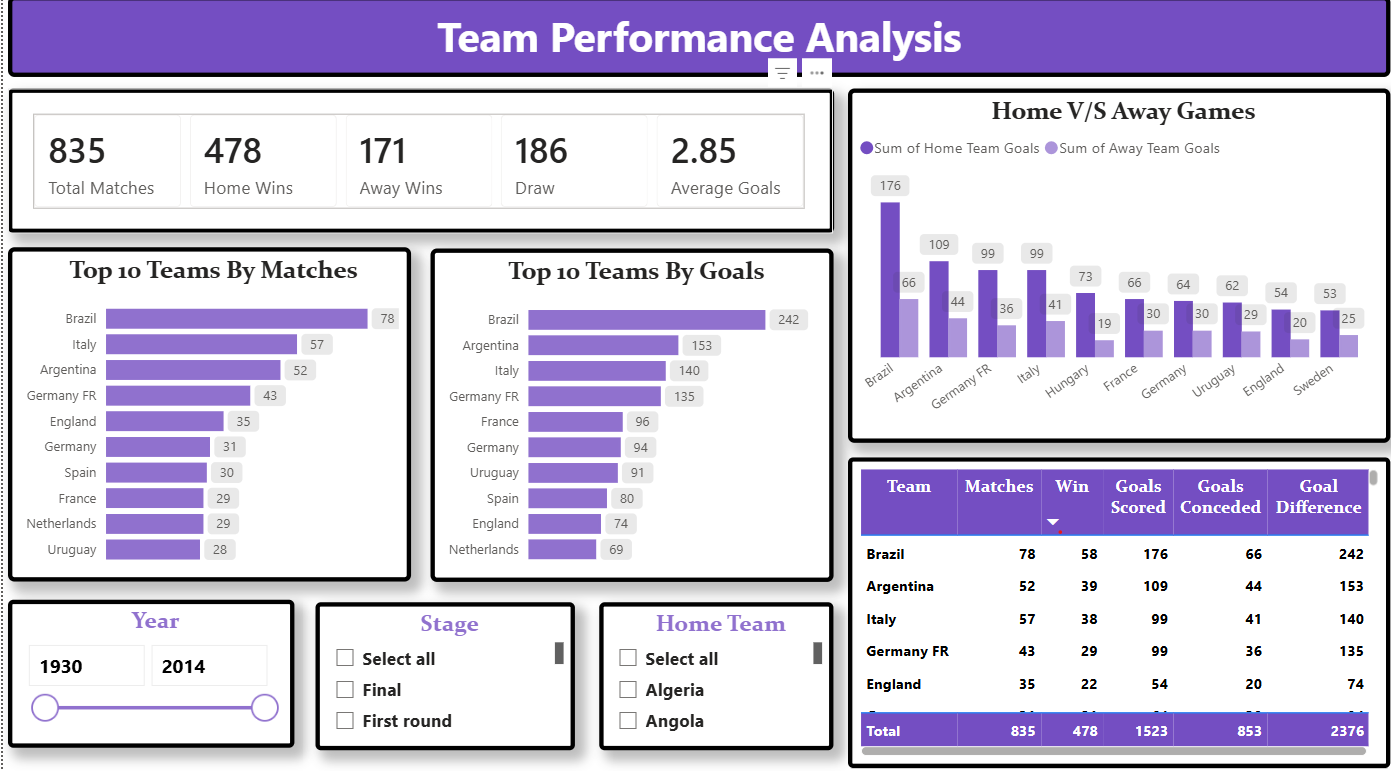

The dashboard page shown, as its layout file describes it:
{"tool":"powerbi","page":{"name":"Team Performance Analysis","canvas":[1280,720],"ordinal":2},"visuals":[{"type":"textbox","title":"Team Performace Analysis","box":[4.1,0,1270.7,74.1],"z":0},{"type":"cardVisual","fields":{"Data":["WorldCupMatches1.Total Matches","WorldCupMatches1.Home Wins","WorldCupMatches1.Away Wins","WorldCupMatches1.Draw","WorldCupMatches1.Average Goals"]},"box":[4.1,85.1,758.8,133.1],"z":1000},{"type":"barChart","title":"Top 10 Teams By Matches","fields":{"Y":["CountNonNull(WorldCupMatches1.MatchID)"],"Category":["WorldCupMatches1.Home Team Name"]},"box":[4.1,230.5,370,307.4],"z":2000},{"type":"barChart","title":"Top 10 Teams By Goals","fields":{"Category":["WorldCupMatches1.Home Team Name"],"Y":["Sum(WorldCupMatches1.Total Goals)"]},"box":[392.5,231.9,370.5,306],"z":3000},{"type":"clusteredColumnChart","title":"Home V/S Away Games","fields":{"Category":["WorldCupMatches1.Home Team Name"],"Y":["Sum(WorldCupMatches1.Home Team Goals)","Sum(WorldCupMatches1.Away Team Goals)"]},"box":[776.7,85.1,498.1,325.2],"z":4000},{"type":"tableEx","fields":{"Values":["WorldCupMatches1.Home Team Name","CountNonNull(WorldCupMatches1.MatchID)","WorldCupMatches1.Home Wins","Sum(WorldCupMatches1.Home Team Goals)","Sum(WorldCupMatches1.Away Team Goals)","Sum(WorldCupMatches1.Goal Difference)"]},"box":[776.7,424,498.1,285.4],"z":5000},{"type":"slicer","title":"Year","fields":{"Values":["WorldCupMatches1.Year"]},"box":[4.1,554.4,263.5,135.8],"z":6000},{"type":"slicer","title":"Stage","fields":{"Values":["WorldCupMatches1.Stage"]},"box":[286.8,557.1,238.8,135.8],"z":7000},{"type":"slicer","title":"Home Team","fields":{"Values":["WorldCupMatches1.Home Team Name"]},"box":[547.5,557.1,215.4,135.8],"z":8000}]}

Visuals, with their boxes in screenshot pixels (x1, y1, x2, y2), scaled from the page's 1280x720 canvas onto the 1391x771 screenshot:
"Team Performace Analysis" textbox: (x1=4, y1=0, x2=1385, y2=79)
cardVisual - WorldCupMatches1.Total Matches x WorldCupMatches1.Home Wins: (x1=4, y1=91, x2=829, y2=234)
"Top 10 Teams By Matches" barChart: (x1=4, y1=247, x2=407, y2=576)
"Top 10 Teams By Goals" barChart: (x1=427, y1=248, x2=829, y2=576)
"Home V/S Away Games" clusteredColumnChart: (x1=844, y1=91, x2=1385, y2=439)
tableEx - WorldCupMatches1.Home Team Name x CountNonNull(WorldCupMatches1.MatchID): (x1=844, y1=454, x2=1385, y2=760)
"Year" slicer: (x1=4, y1=594, x2=291, y2=739)
"Stage" slicer: (x1=312, y1=597, x2=571, y2=742)
"Home Team" slicer: (x1=595, y1=597, x2=829, y2=742)
